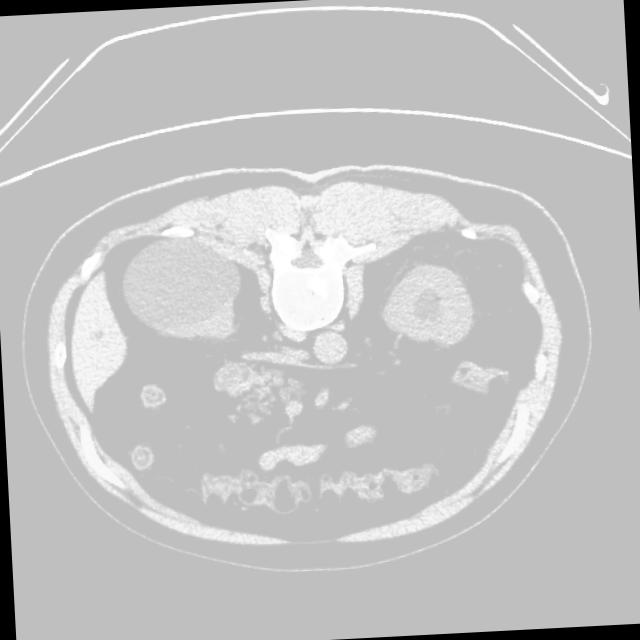cysts: (33, 156, 585, 573)
